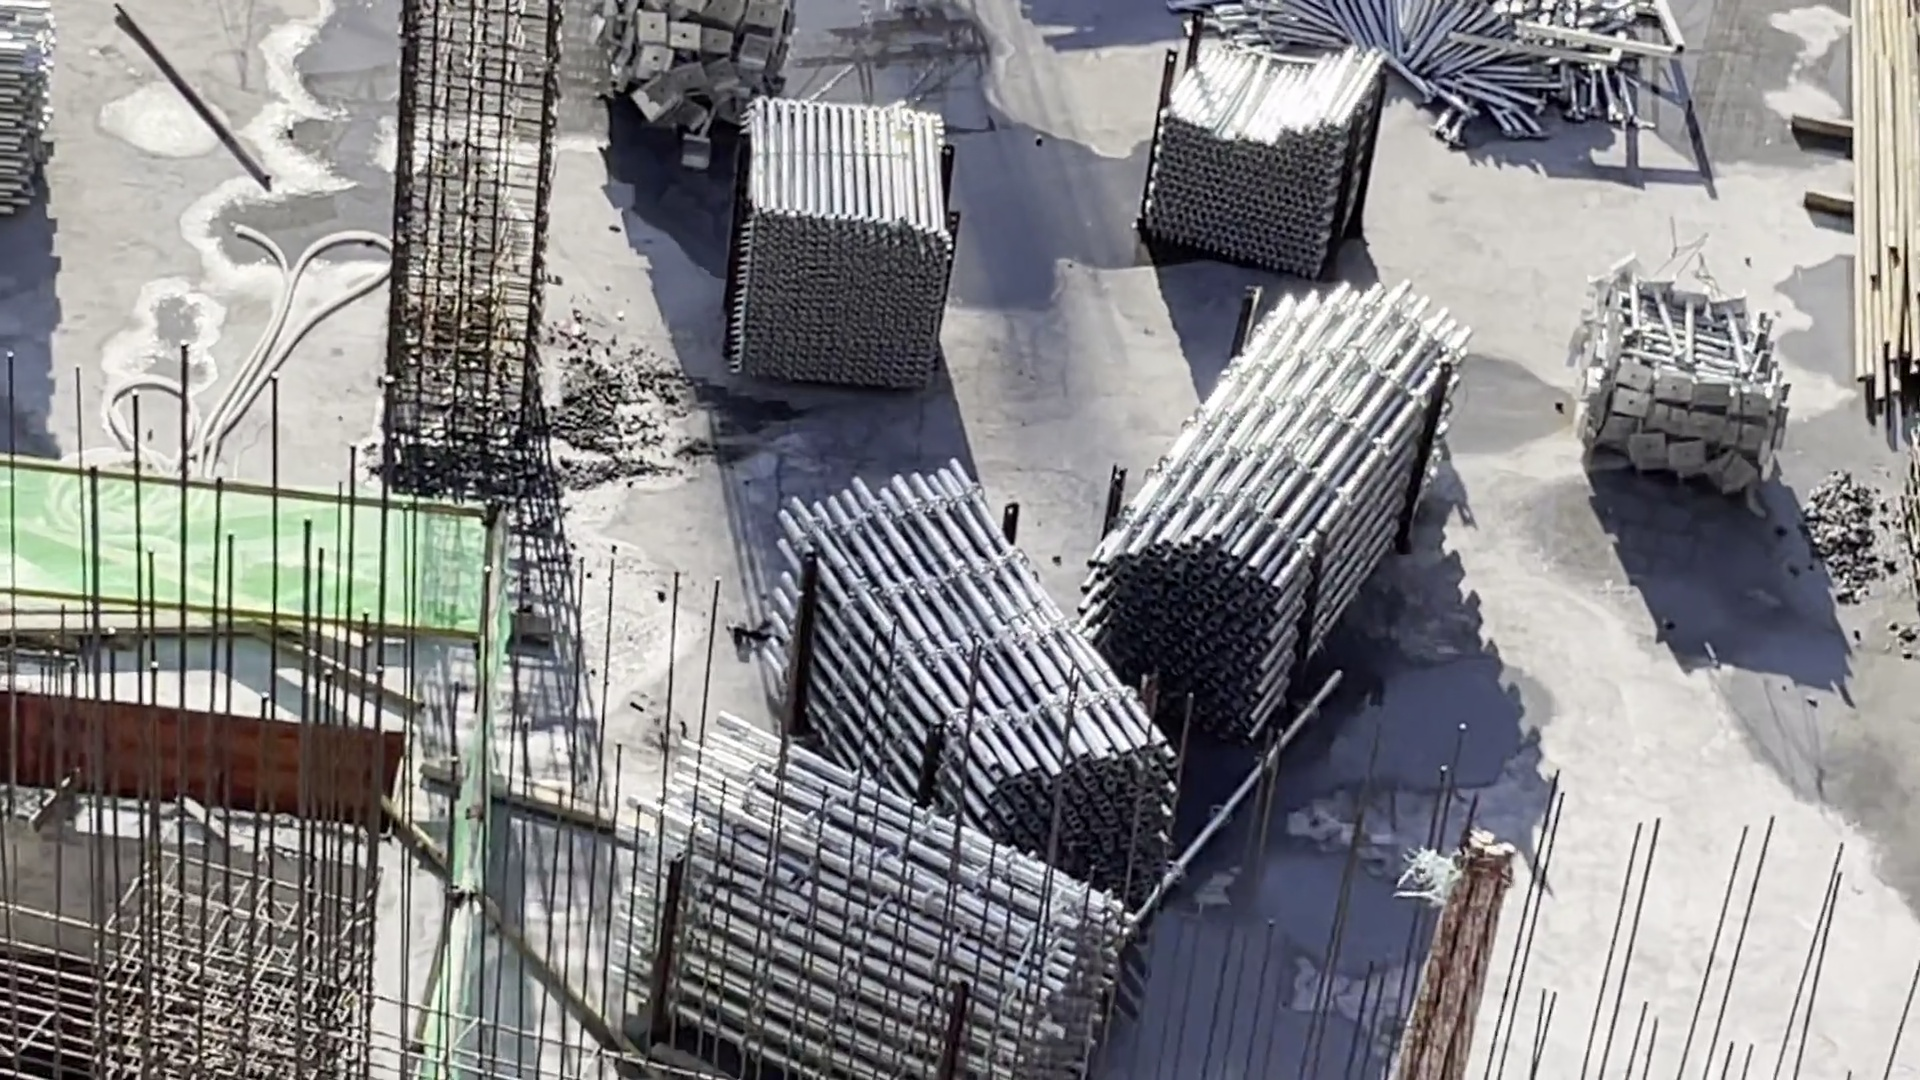scaffold: (758, 477, 1175, 924), (630, 727, 1126, 1080), (1120, 293, 1425, 752), (721, 88, 973, 371), (1247, 1, 1680, 154), (1116, 32, 1375, 264), (1573, 266, 1780, 508), (591, 1, 803, 162)
